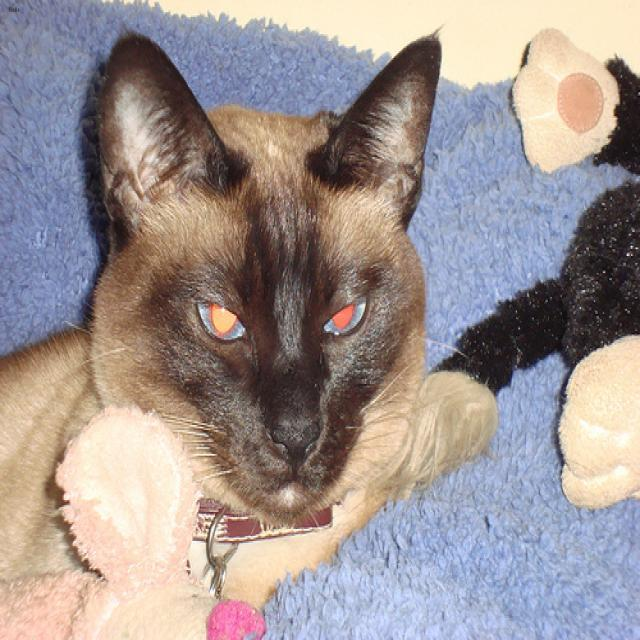Siamese: (97, 32, 439, 512)
